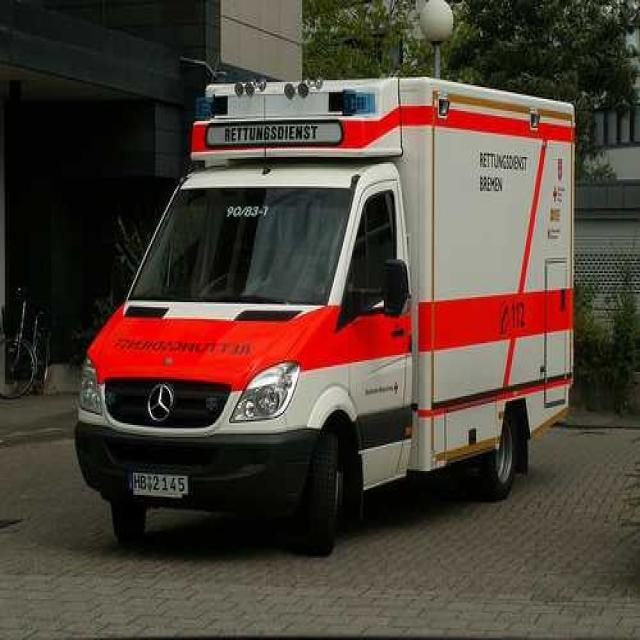ambulance: (200, 86, 375, 118)
